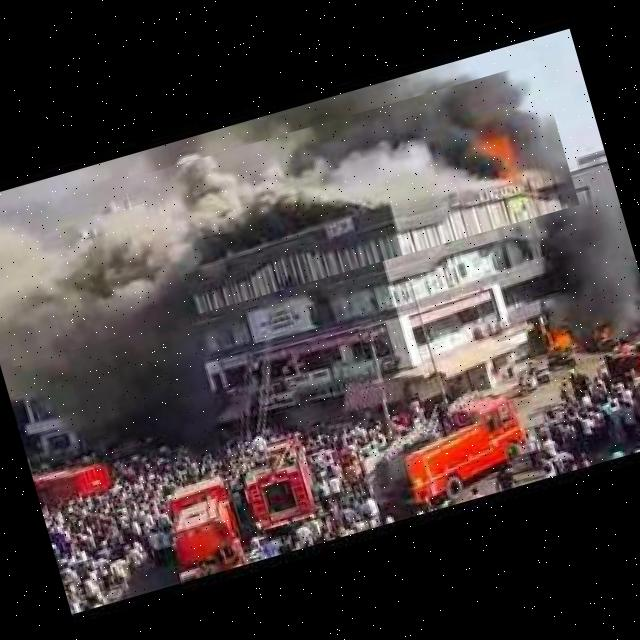fire: (0, 60, 579, 366)
